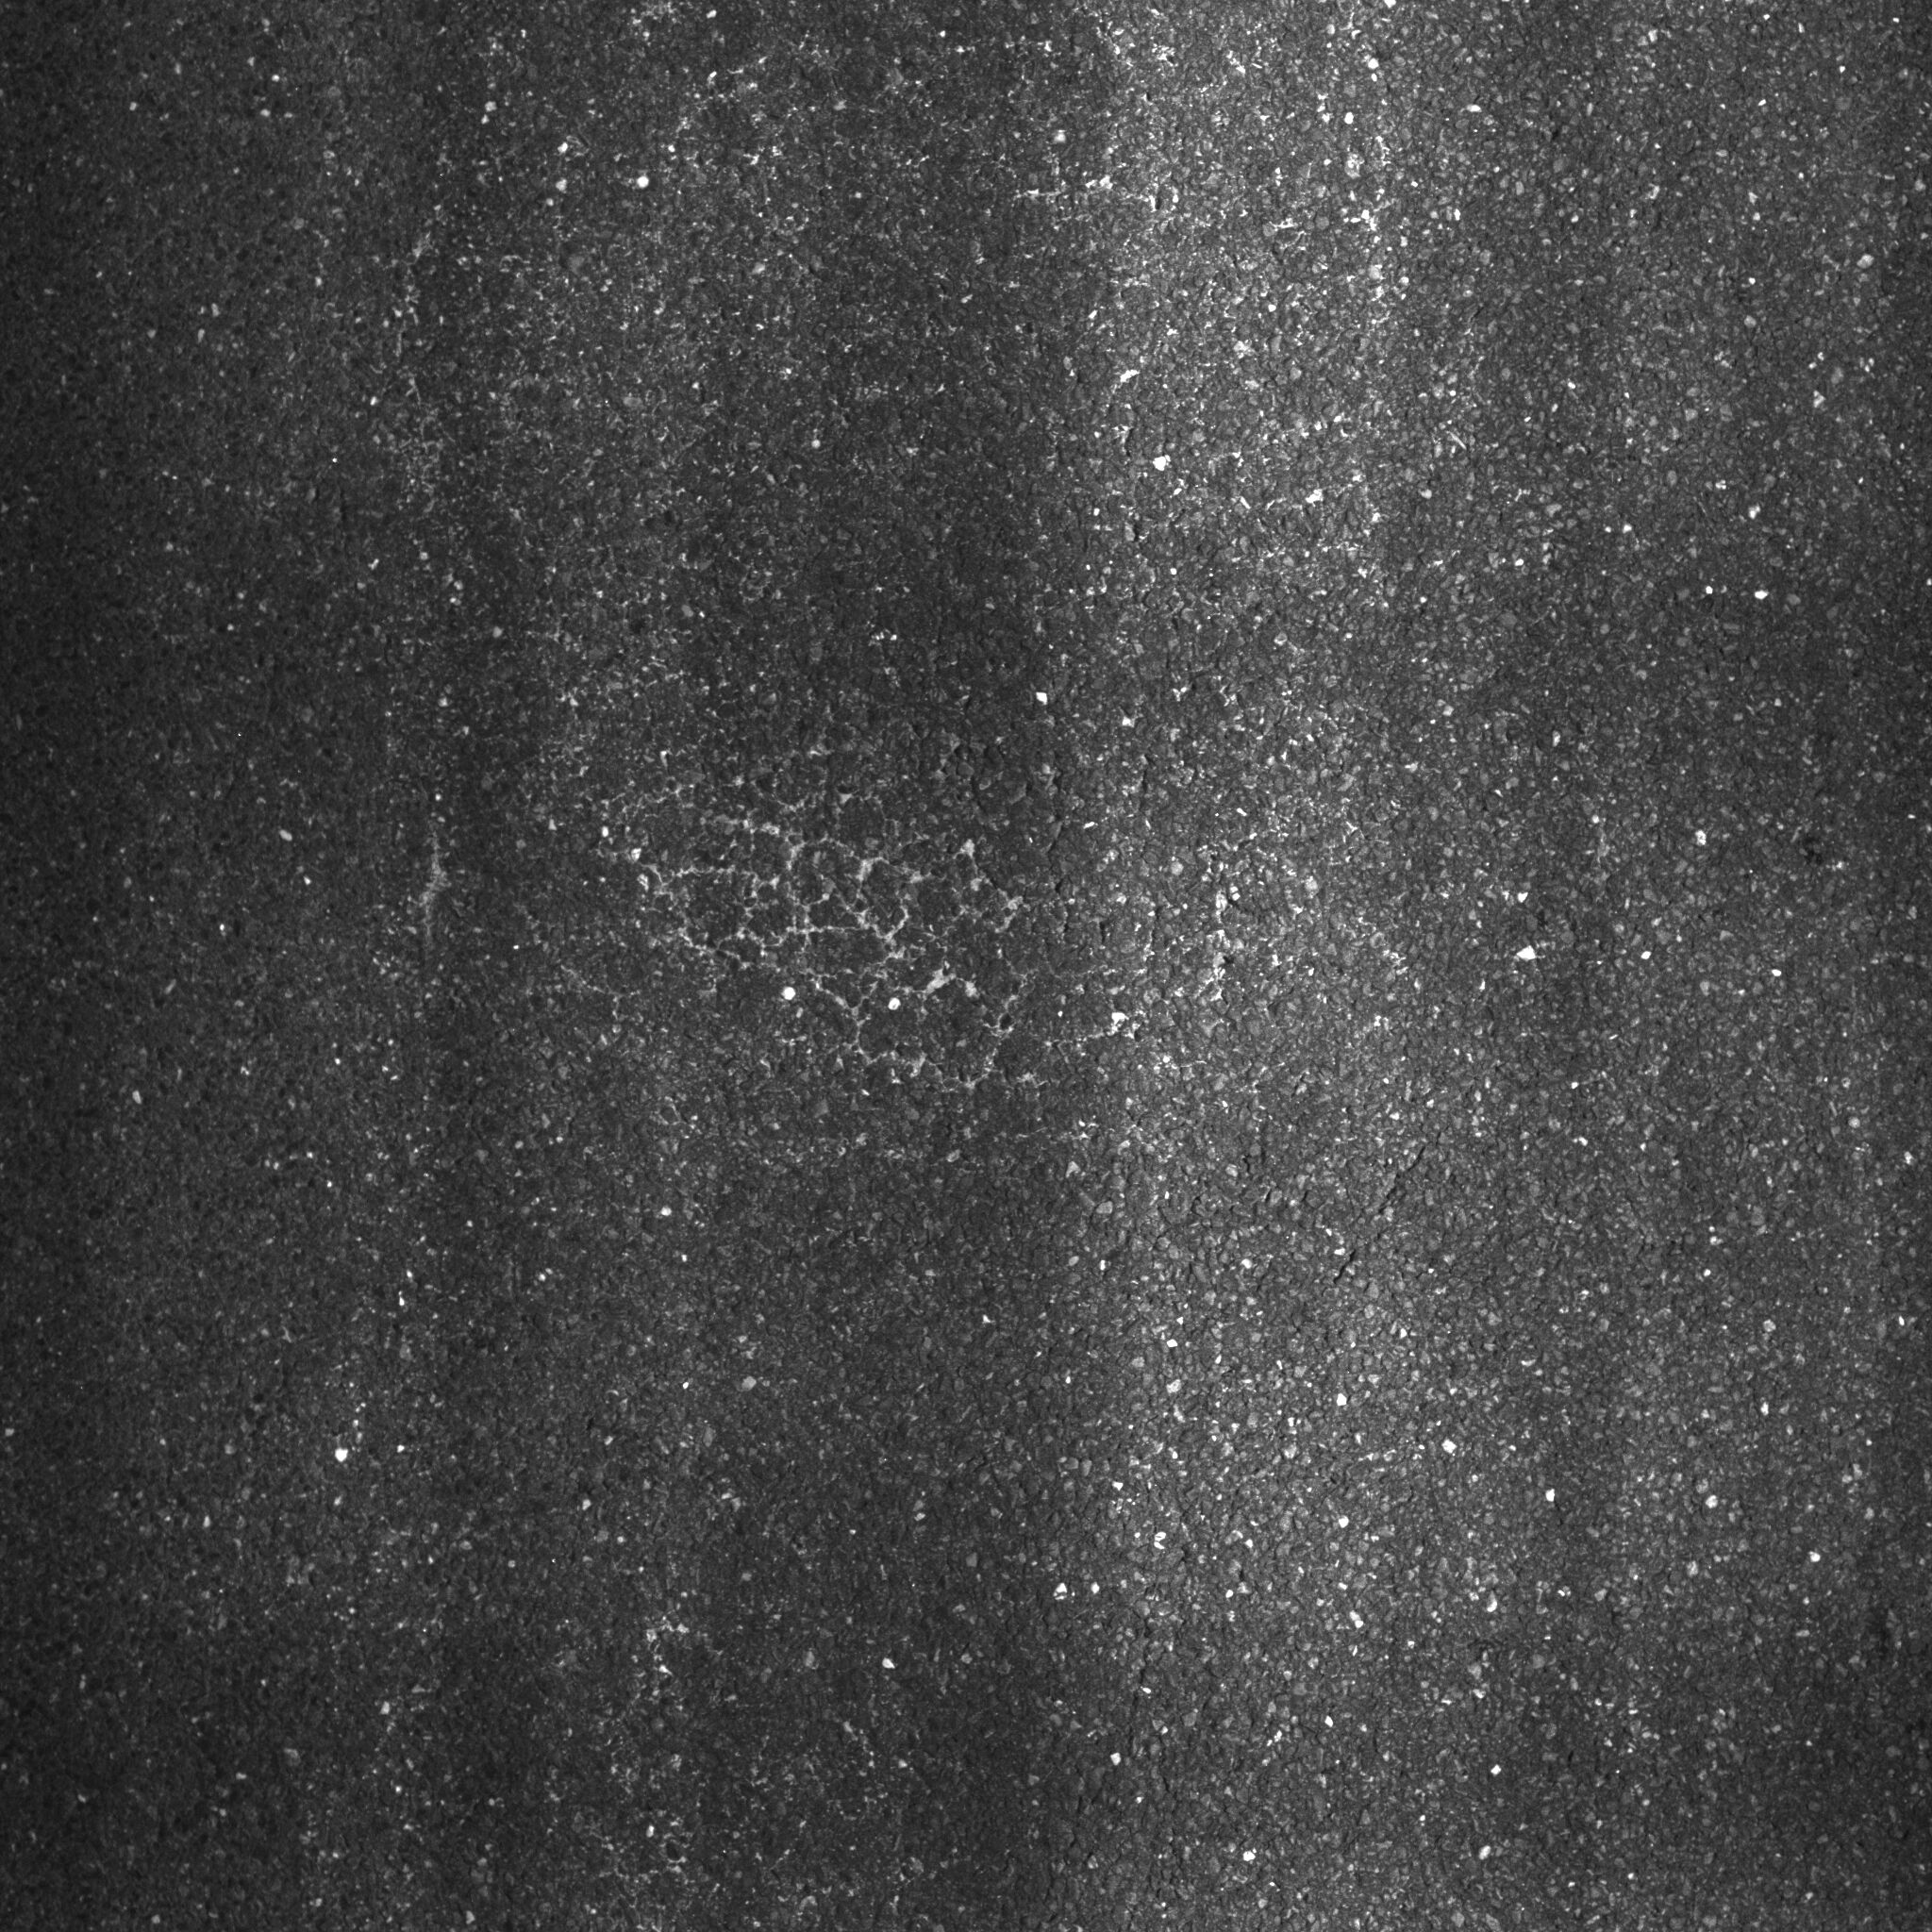alligator: (241, 4, 1721, 1215)
